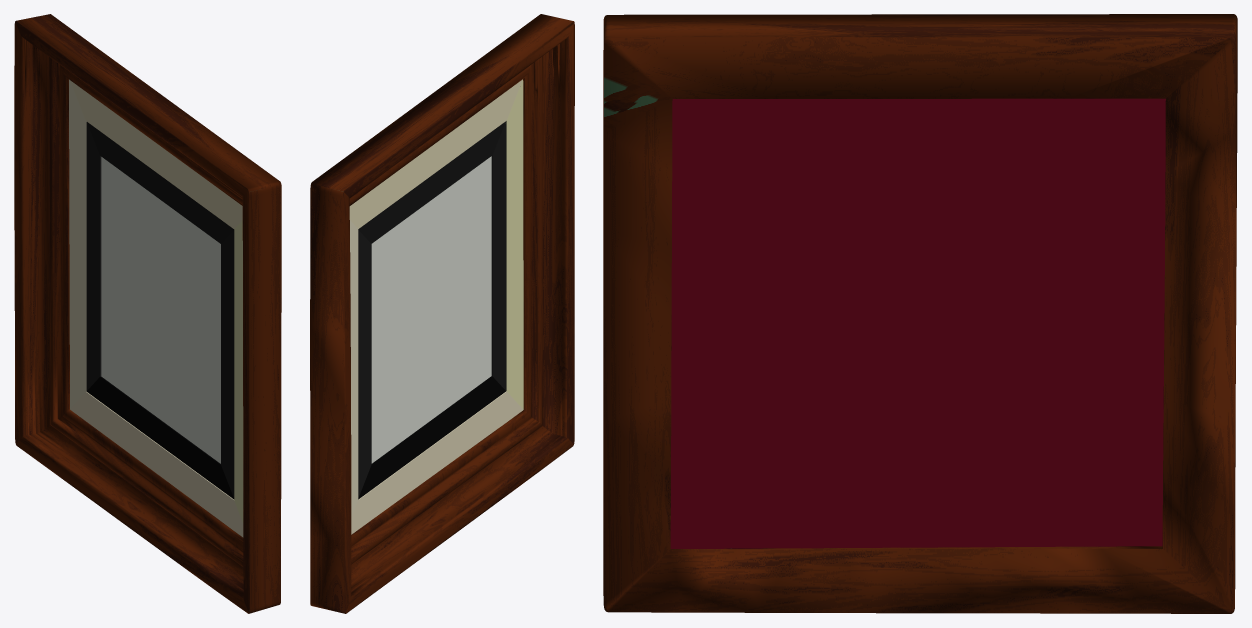
The model's file is frame-compressed.glb.
3 renders of one model, left to right at view 1: azimuth 30°, elevation 25°; view 2: azimuth 150°, elevation 25°; view 3: azimuth 270°, elevation 25°, orthographic. The views are drawn at different scales.
Parts seen in each view (by area): view 1: object 9, Photo, object 5, object 7, object 1, Second Mat right, object 3, First Mat right; view 2: object 9, Photo, object 5, object 7, First Mat right, object 1, Second Mat right, object 3; view 3: Frame Backside, object 9.
Boxes of the visible parts, bbox=[...] form: object 9: bbox=[14, 14, 281, 613]; Photo: bbox=[101, 157, 220, 463]; object 5: bbox=[69, 79, 242, 408]; object 7: bbox=[86, 121, 234, 499]; object 1: bbox=[70, 391, 243, 537]; Second Mat right: bbox=[221, 230, 234, 498]; object 3: bbox=[87, 122, 234, 243]; First Mat right: bbox=[234, 220, 243, 522]; object 9: bbox=[310, 14, 574, 613]; Photo: bbox=[371, 156, 491, 463]; object 5: bbox=[349, 79, 522, 517]; object 7: bbox=[358, 230, 505, 499]; First Mat right: bbox=[506, 80, 523, 409]; object 1: bbox=[351, 391, 523, 534]; Second Mat right: bbox=[491, 121, 506, 390]; object 3: bbox=[358, 121, 505, 243]; Frame Backside: bbox=[670, 98, 1165, 548]; object 9: bbox=[603, 14, 1237, 613].
Size of what is drawn, in the model's own units: 0.5268 by 6.05 by 6.02.
11 materials, 1 textured.
